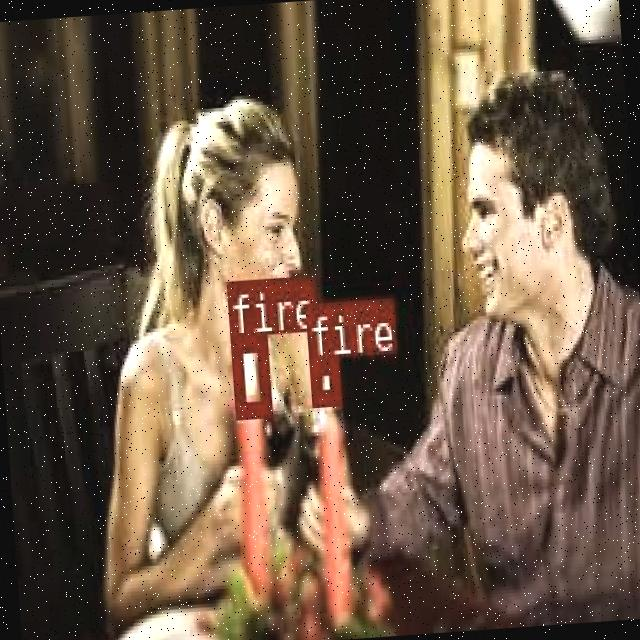fire: (228, 332, 270, 416), (307, 357, 338, 402)
